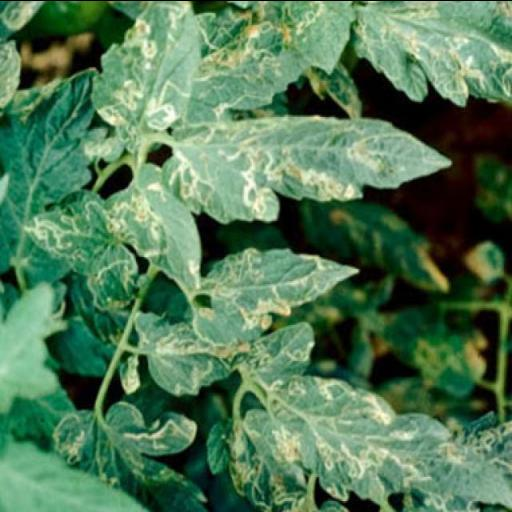disease_tomato: (260, 374, 512, 512), (160, 112, 453, 223), (349, 0, 512, 111), (190, 246, 362, 346), (89, 0, 202, 131), (102, 161, 202, 300)
